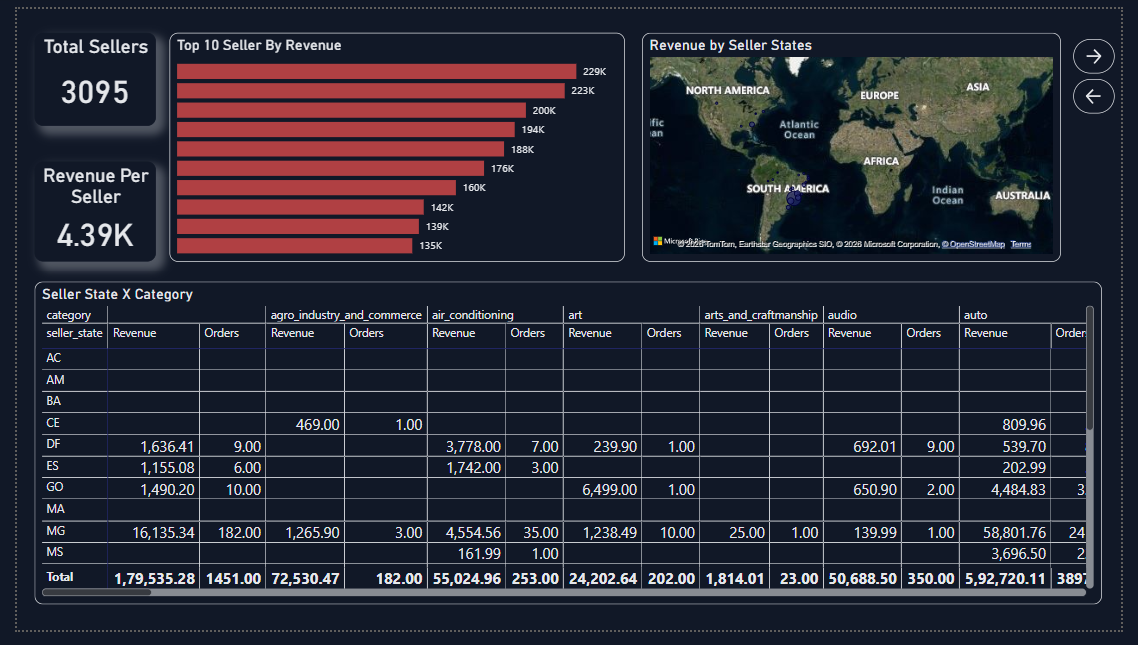

The page's visual inventory and layout, read from the dashboard file:
{"tool":"powerbi","page":{"name":"Seller","canvas":[1280,720],"ordinal":8},"visuals":[{"type":"card","title":"Total Sellers","fields":{"Values":["DimDate.Sellers"]},"box":[20.8,26.9,140.6,107.6],"z":0},{"type":"card","title":"Revenue Per Seller","fields":{"Values":["DimDate.Revenue per Seller"]},"box":[20.8,176.1,140.6,116.2],"z":1000},{"type":"barChart","title":"Top 10 Seller By Revenue","fields":{"Y":["public bi_fact_sales.Revenue"],"Category":["public bi_fact_sales.seller_id"]},"box":[177.3,26.9,528.3,265.4],"z":2000},{"type":"map","title":"Revenue by Seller States","fields":{"Size":["public bi_fact_sales.Revenue"],"Category":["public bi_fact_sales.seller_state"]},"box":[725.1,26.9,485.5,265.4],"z":3000},{"type":"pivotTable","title":"Seller State X Category","fields":{"Values":["public bi_fact_sales.Revenue","public bi_fact_sales.Orders"],"Columns":["public bi_fact_sales.category"],"Rows":["public bi_fact_sales.seller_state"]},"box":[20.8,315.5,1237.5,374.2],"z":4000},{"type":"actionButton","box":[1224.1,34.2,47.7,40.4],"z":5000},{"type":"actionButton","box":[1224.1,80.7,47.7,40.4],"z":6000}]}

Visuals, with their boxes in screenshot pixels (x1, y1, x2, y2), scaled from the page's 1280x720 canvas onto the 1138x645 screenshot:
"Total Sellers" card: pyautogui.locateOnScreen(18, 24, 143, 120)
"Revenue Per Seller" card: pyautogui.locateOnScreen(18, 158, 143, 262)
"Top 10 Seller By Revenue" barChart: pyautogui.locateOnScreen(158, 24, 627, 262)
"Revenue by Seller States" map: pyautogui.locateOnScreen(645, 24, 1076, 262)
"Seller State X Category" pivotTable: pyautogui.locateOnScreen(18, 283, 1119, 618)
actionButton: pyautogui.locateOnScreen(1088, 31, 1131, 67)
actionButton: pyautogui.locateOnScreen(1088, 72, 1131, 108)
